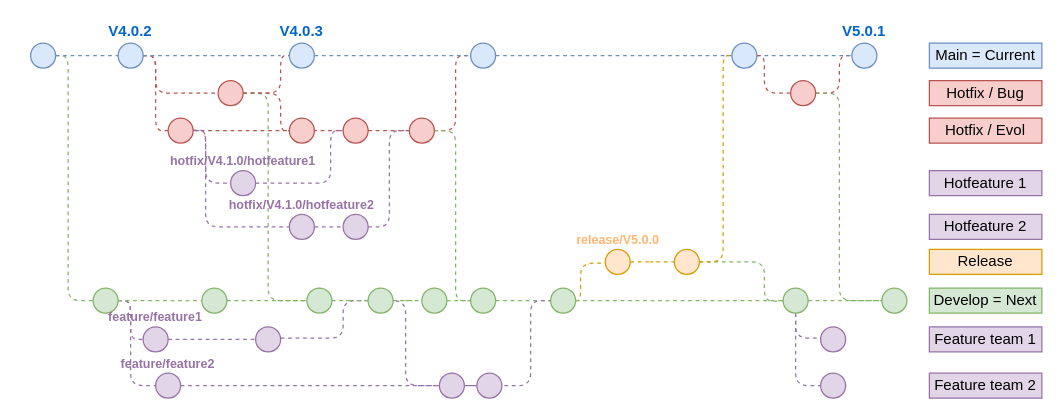
Image size: 1064x420. Some labels were removed from this diagram. Here are the shapes that lost their labels. From the top down, the centre of each, then its label:
the point at 42,55: V4.0.0
the point at 482,55: V4.1.0
the point at 744,55: V5.0.0
the point at 230,92: hotfix/V4.0.3
the point at 802,92: hotfix/V5.0.1
the point at 180,130: hotfix/V4.1.0
